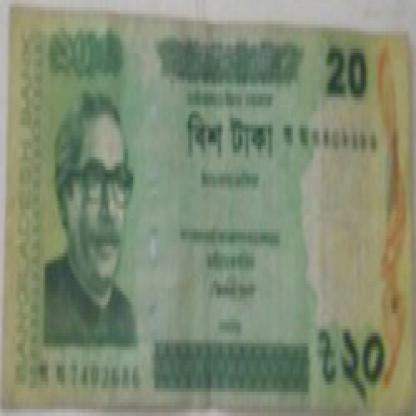Twenty: (316, 316, 394, 402), (181, 107, 273, 170), (47, 24, 128, 87), (320, 42, 372, 104)
